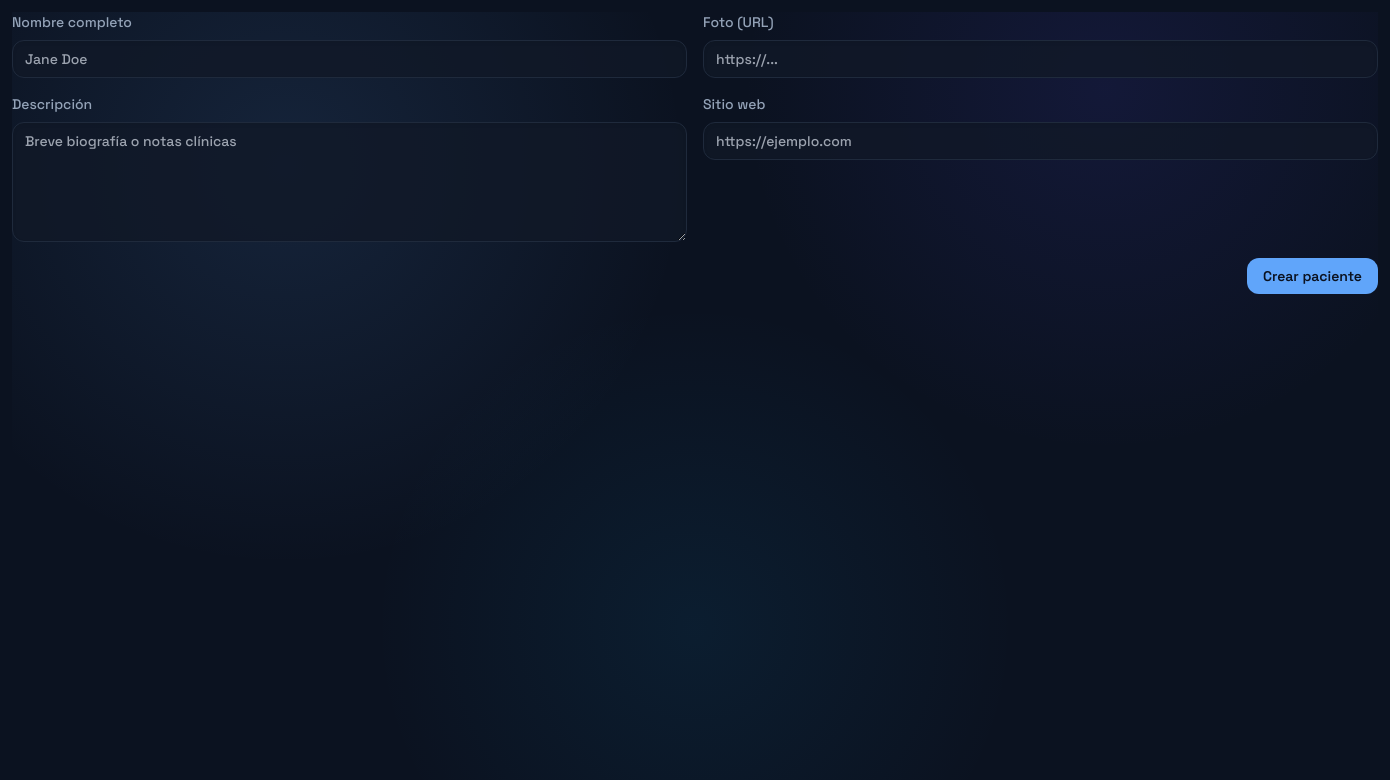
Test: PatientForm › Modo crear › muestra errores de validación cuando se envía vacío
The width and height of the screenshot is (1390, 780).
Click the button "Crear paciente": (1312,276) x1=1247 y1=258 x2=1378 y2=294
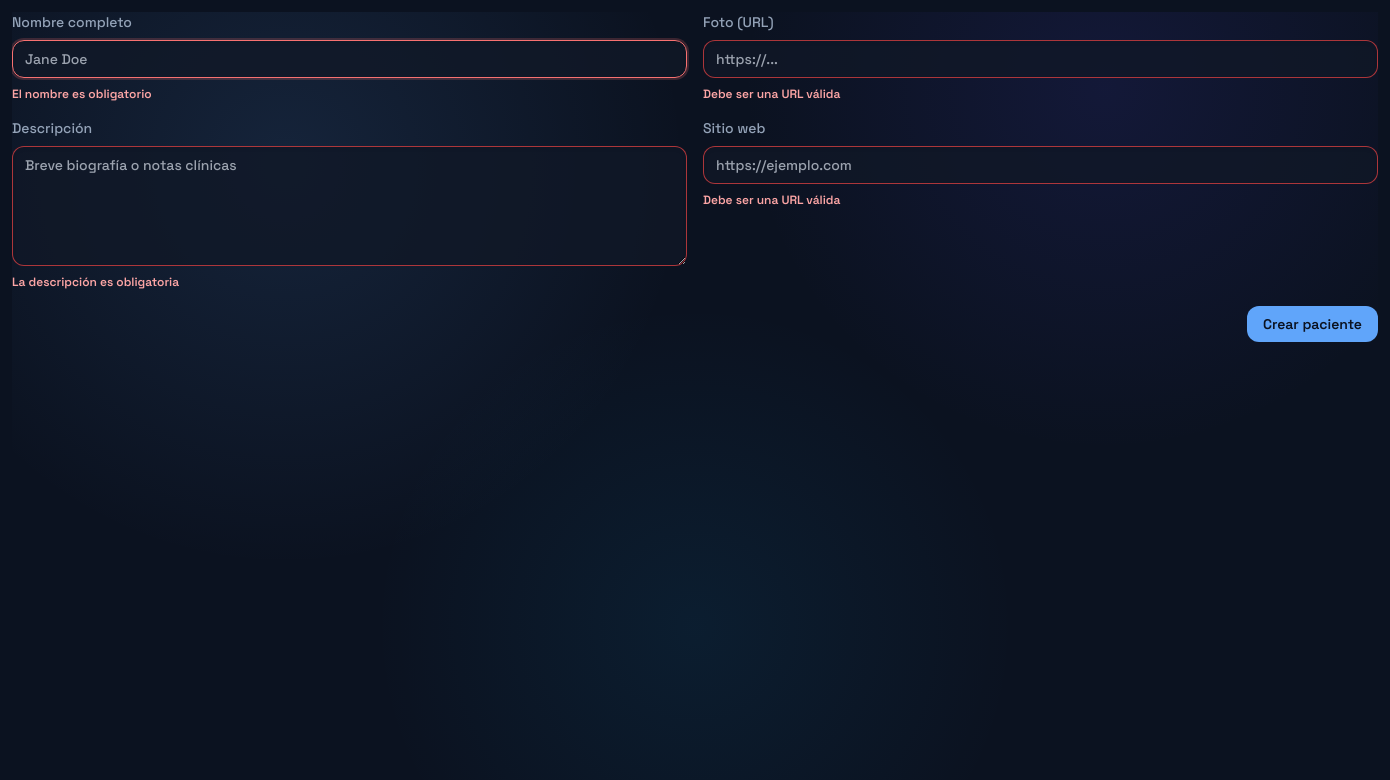
Check: the text "El nombre es obligatorio" is shown, box x1=12 y1=86 x2=152 y2=102
Check: the text "La descripción es obligatoria" is shown, box x1=12 y1=274 x2=179 y2=290
Check: the text "Debe ser una URL válida" below "Foto (URL)" is shown, box x1=703 y1=86 x2=840 y2=102
